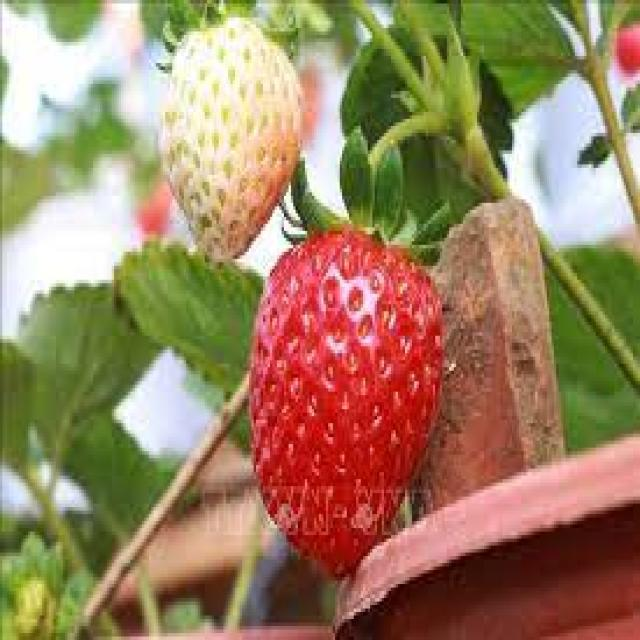Fruta sana: (252, 243, 444, 575)
